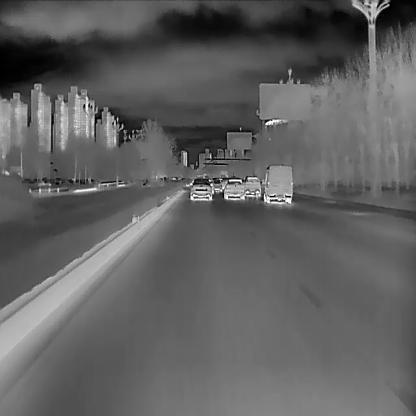car: (264, 165, 292, 202), (189, 179, 211, 200), (243, 175, 261, 198), (224, 179, 244, 199)
